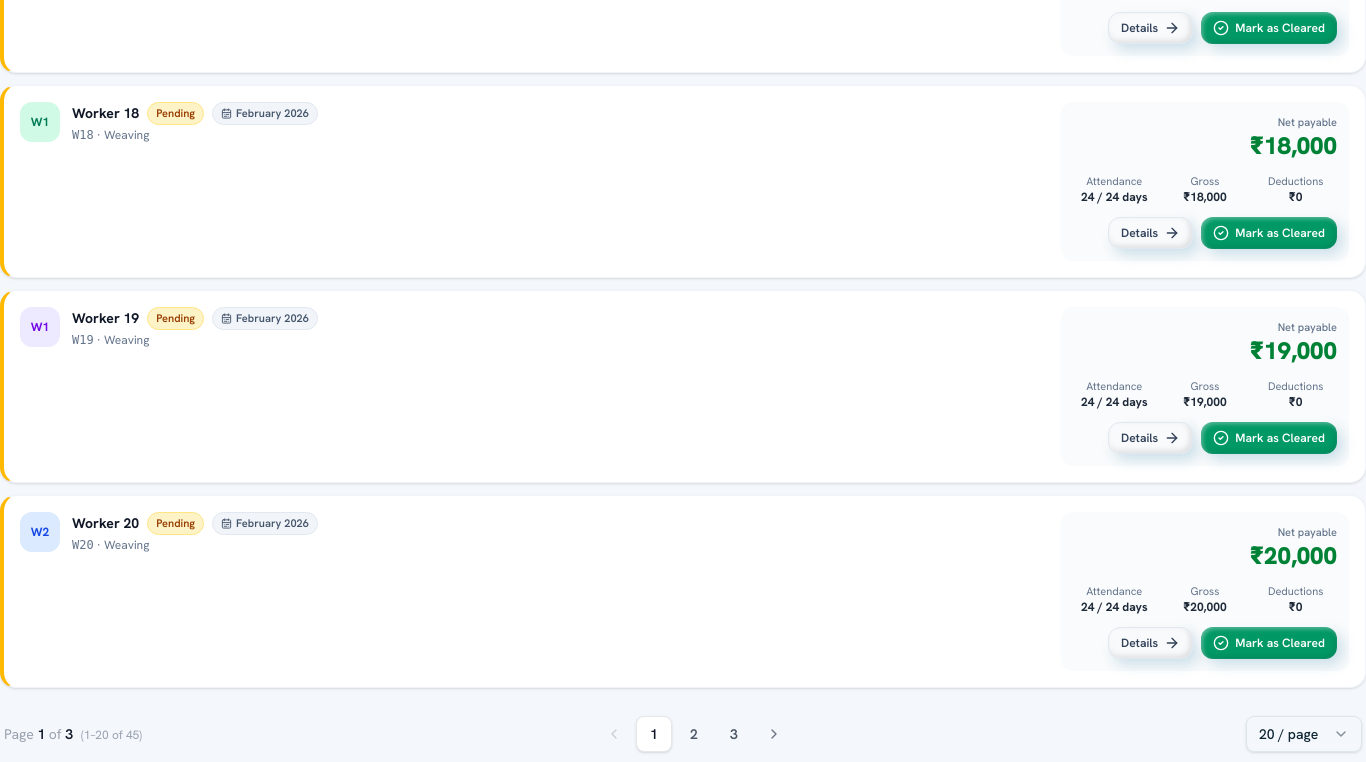
Test: paging › shows a page at a time, 20 by default
(page scrolled)
Click the button named "Page 3". click: (734, 734)
box: left=716, top=716, right=752, bottom=752
(page scrolled)
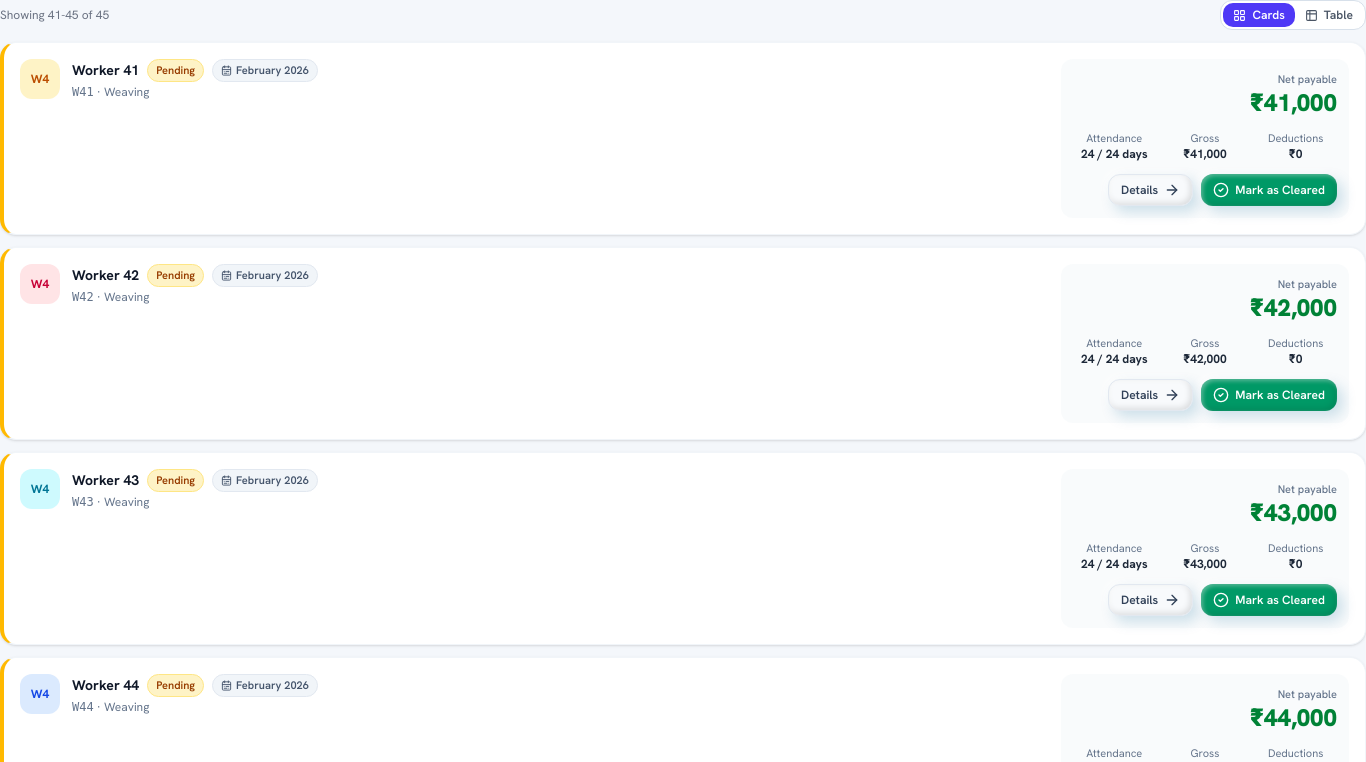
Result: the text "Showing 41-45 of 45" is shown at left=0, top=7, right=109, bottom=23
Result: the text with class "font-bold" reads "Worker 41" at left=72, top=61, right=139, bottom=79
